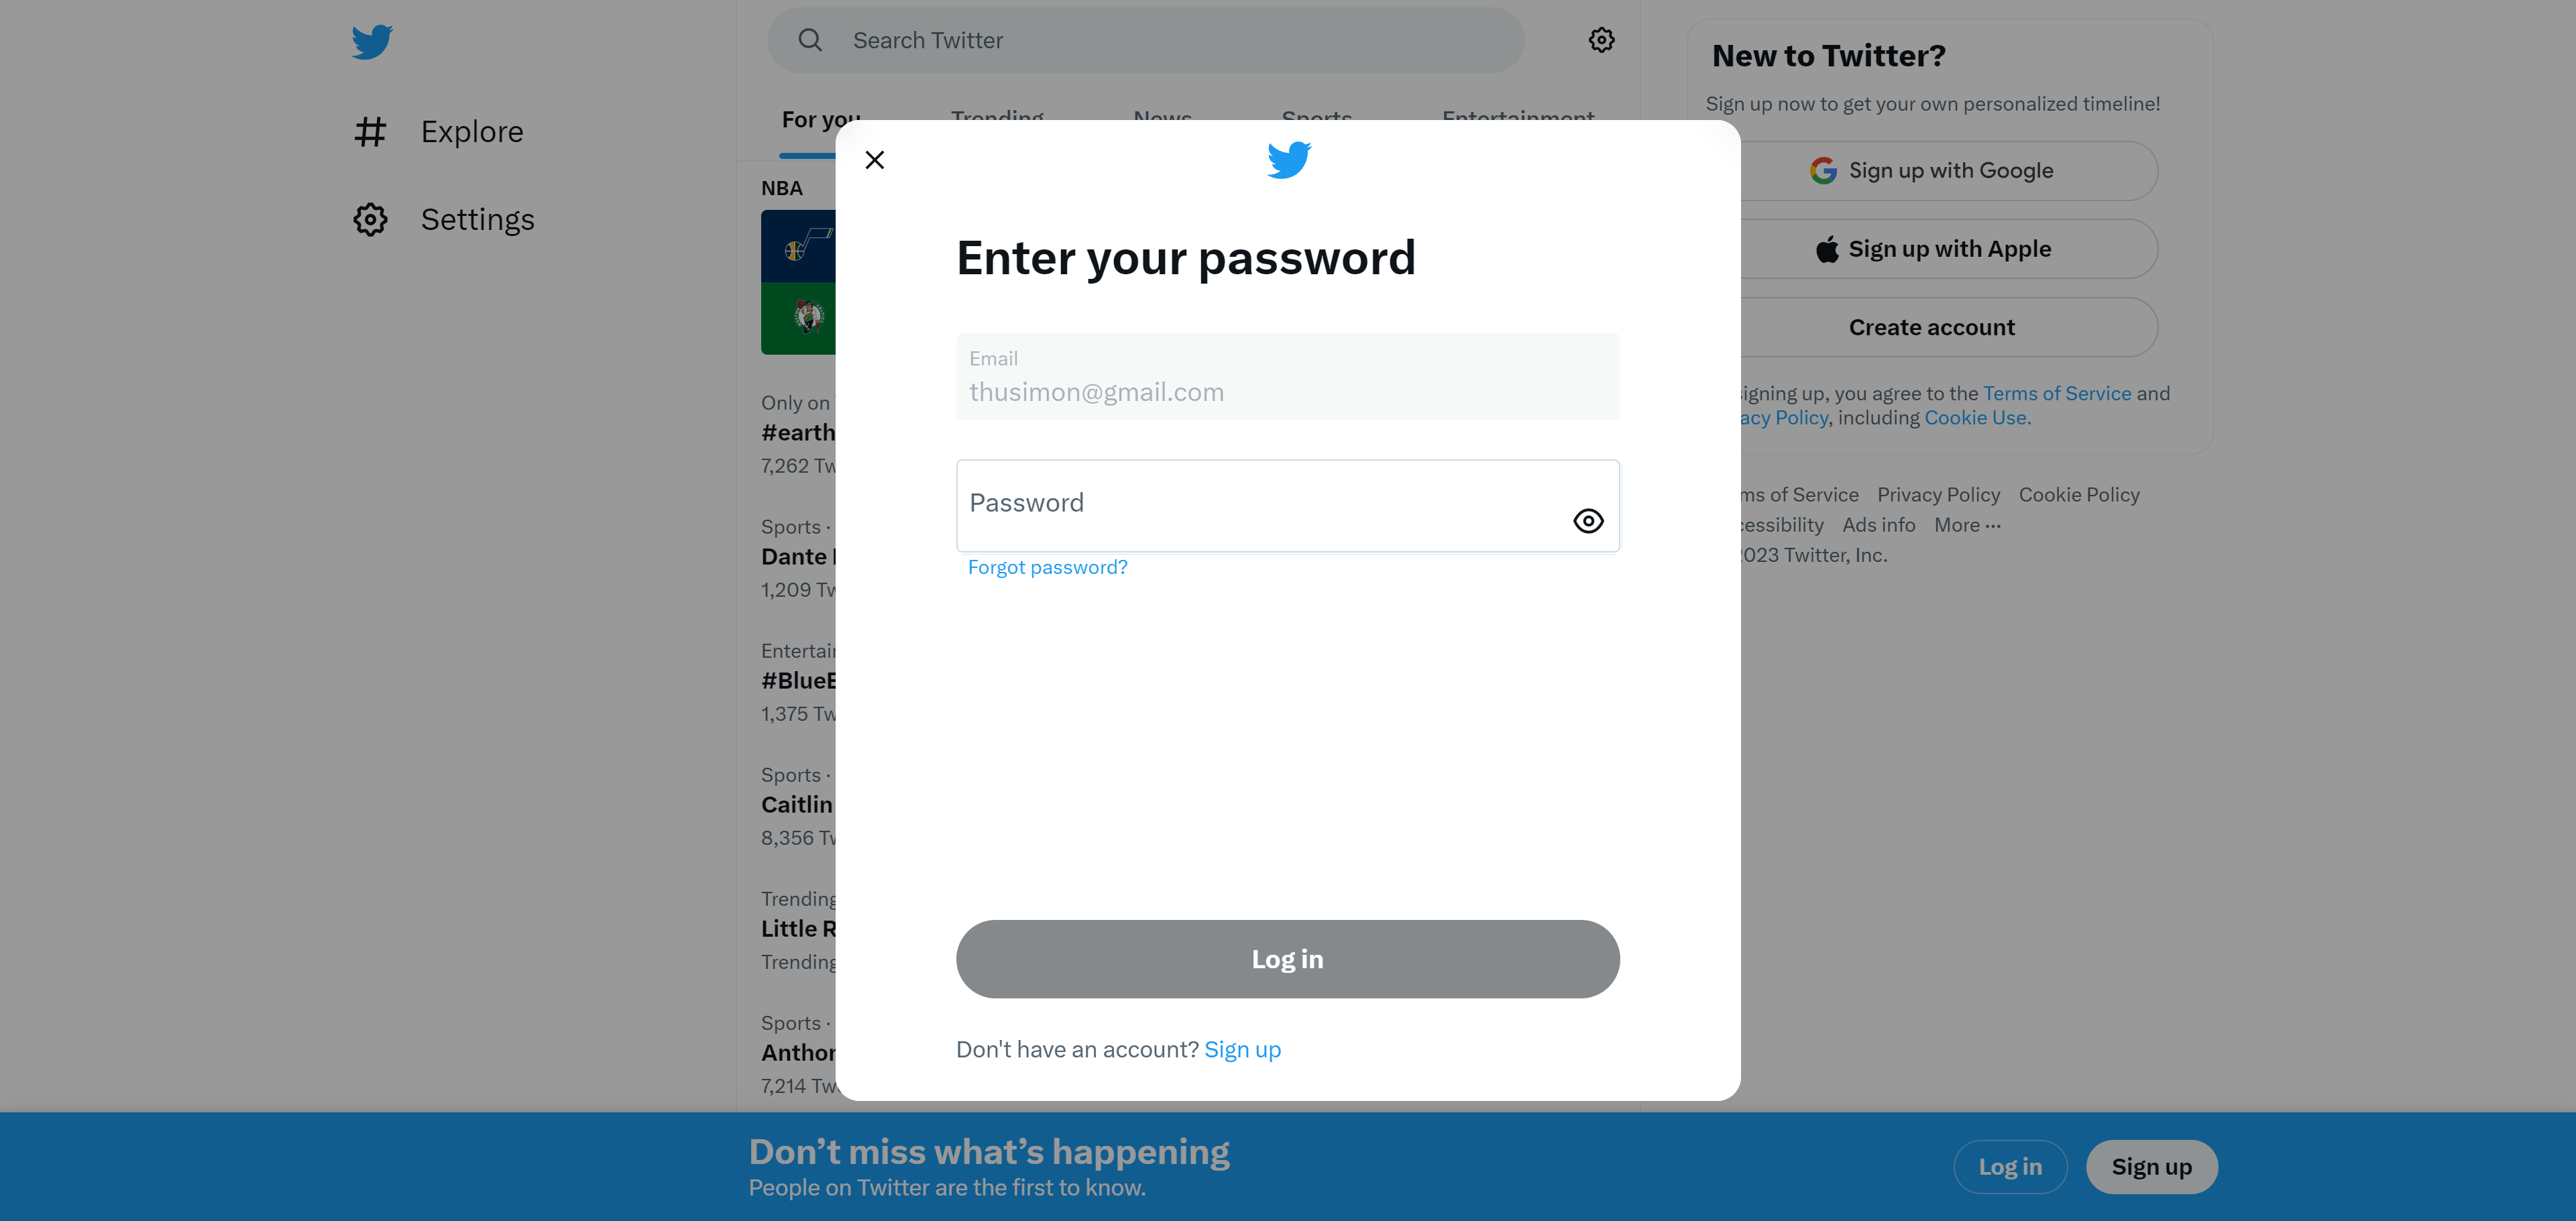login_button: (956, 920, 1621, 998)
login_form: (950, 325, 1631, 1006)
